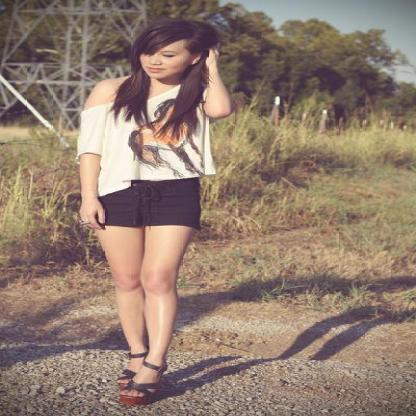shirt: (77, 82, 229, 195)
shoe: (118, 362, 185, 412)
shorts: (95, 177, 207, 240)
